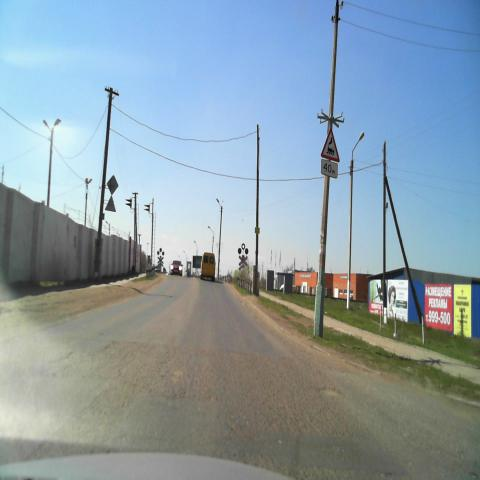8_1_1: (321, 159, 339, 178)
